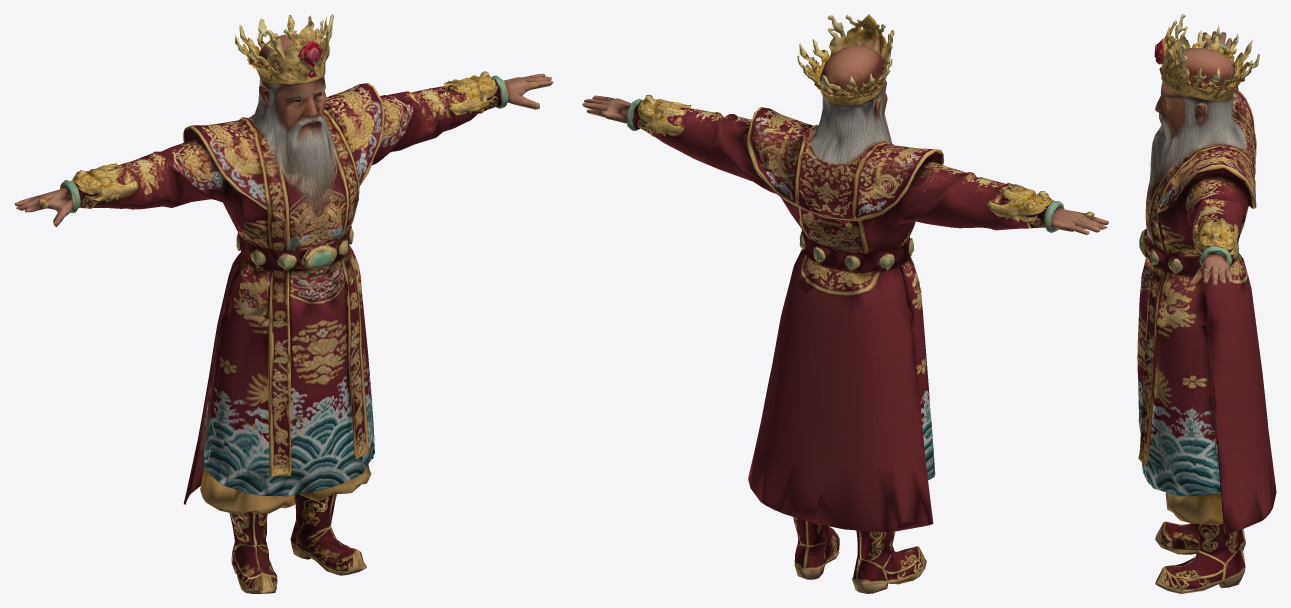
File: vua-hung.glb
3 views of the same model, side by side, from view 1: azimuth 30°, elevation 25°; view 2: azimuth 150°, elevation 25°; view 3: azimuth 270°, elevation 25° (orthographic). The views are drawn at different scales.
Parts seen in each view (by area): view 1: tripo_node_a453d5aa-76f6-431f-915c-cddae1f11876; view 2: tripo_node_a453d5aa-76f6-431f-915c-cddae1f11876; view 3: tripo_node_a453d5aa-76f6-431f-915c-cddae1f11876.
Boxes of the visible parts, x1,y1,x2,y2 form: tripo_node_a453d5aa-76f6-431f-915c-cddae1f11876: [14, 14, 553, 593]; tripo_node_a453d5aa-76f6-431f-915c-cddae1f11876: [582, 14, 1108, 593]; tripo_node_a453d5aa-76f6-431f-915c-cddae1f11876: [1137, 14, 1276, 593].
Bounding box in the file's own units: 0.9802 × 0.9777 × 0.2276.
1 material, 1 textured.
